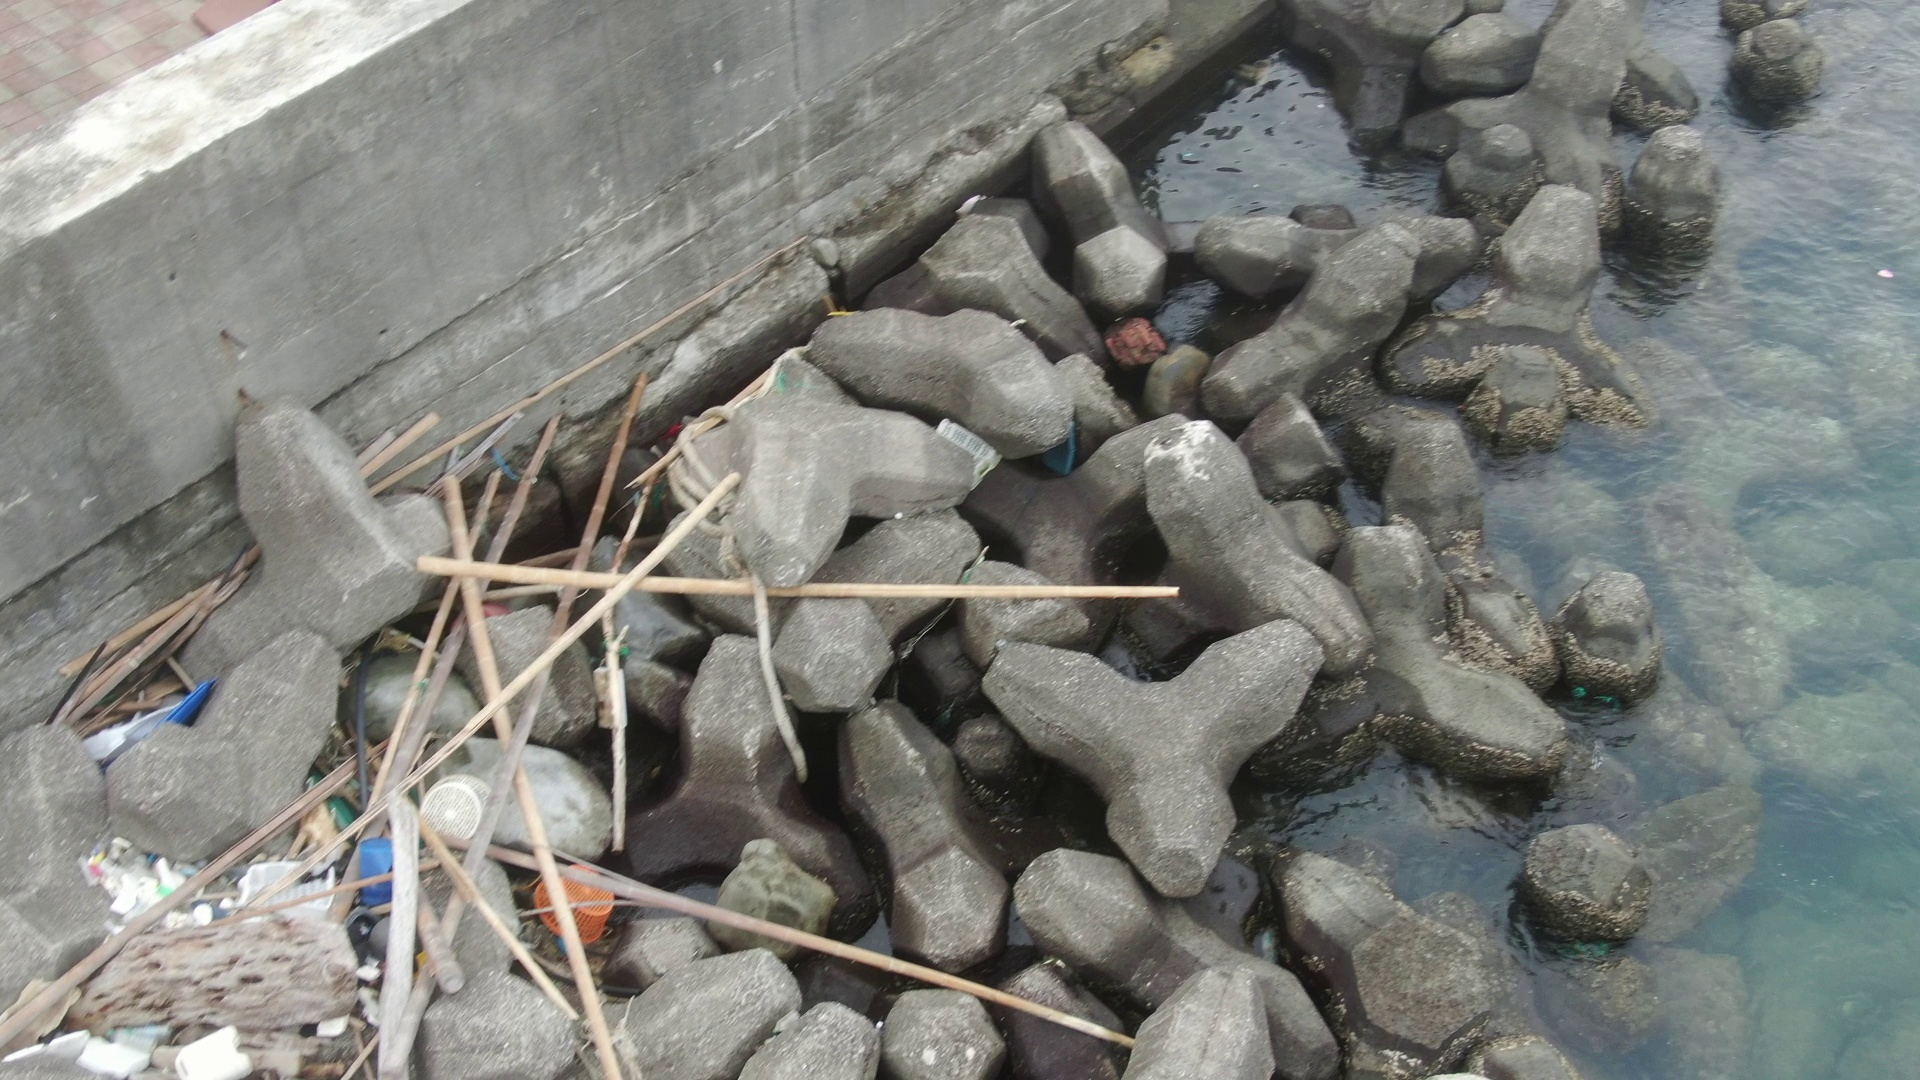garbage: (51, 836, 327, 1080), (334, 758, 495, 920), (55, 655, 255, 770), (324, 924, 415, 1040), (527, 858, 630, 944), (920, 401, 996, 488), (1043, 410, 1087, 485), (945, 189, 993, 218)
